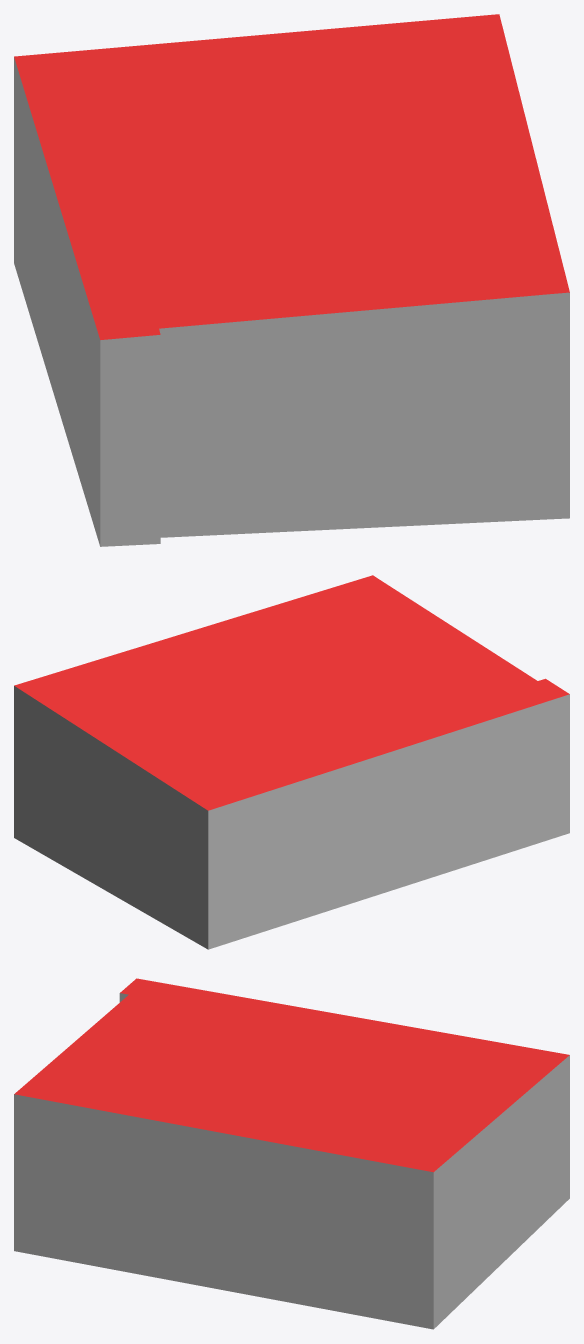
File: DEBY_LOD2_4908136.dae
The picture shows the model from 3 angles, top to bottom: view 1: azimuth 30°, elevation 25°; view 2: azimuth 150°, elevation 25°; view 3: azimuth 270°, elevation 25°; orthographic projection. The views are drawn at different scales.
Size of the model in its own units: 9.66 by 10.93 by 3.41.
